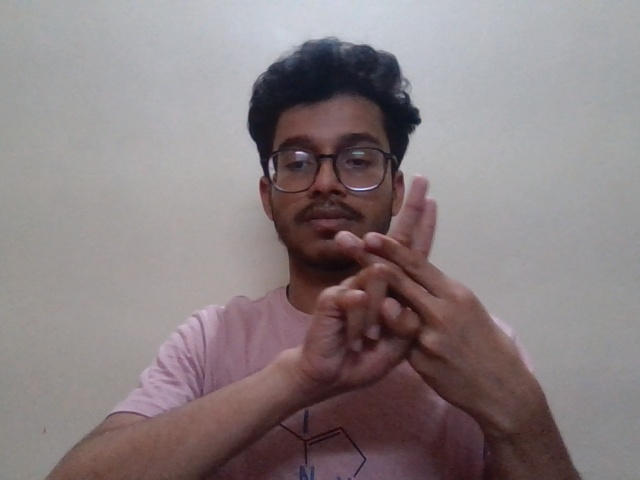disabled: (307, 174, 555, 421)
